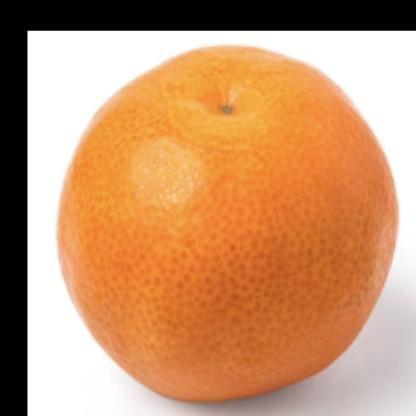rotten: (60, 45, 397, 410)
